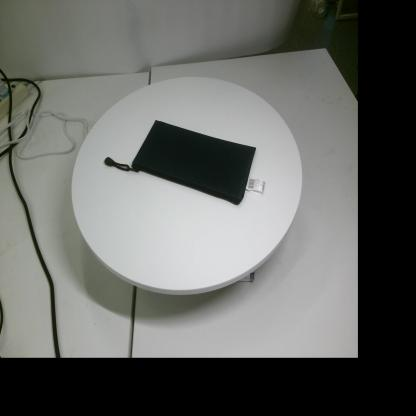Stationery: (105, 120, 265, 205)
